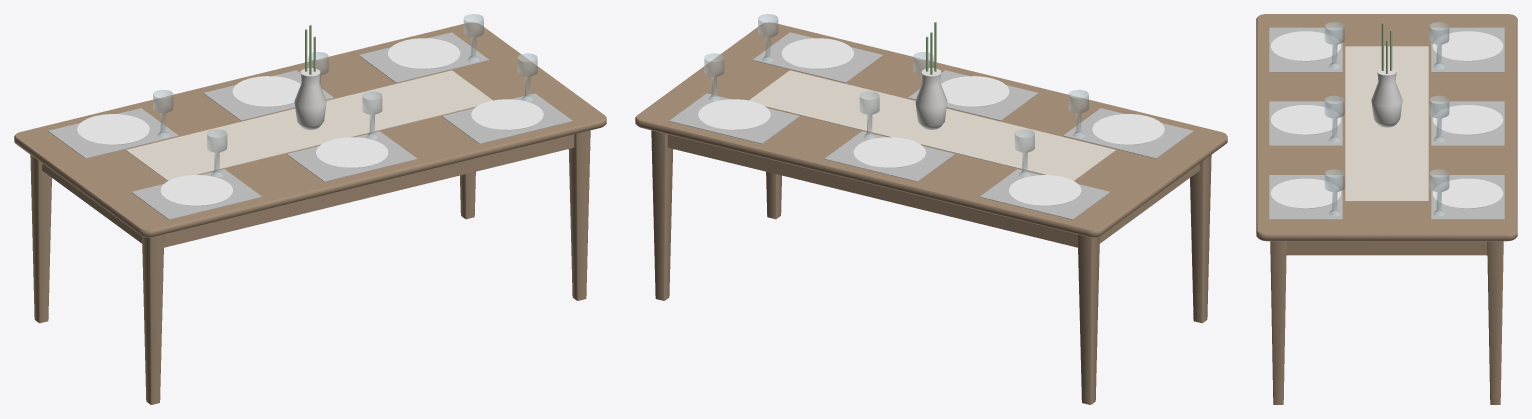
The picture shows the model from 3 angles, left to right: view 1: azimuth 30°, elevation 25°; view 2: azimuth 150°, elevation 25°; view 3: azimuth 270°, elevation 25°; orthographic projection. The views are drawn at different scales.
Parts seen in each view (by area): view 1: Bàn ăn Dài bàn=2000; Rộng bàn=1000; 8 ghế; view 2: Bàn ăn Dài bàn=2000; Rộng bàn=1000; 8 ghế; view 3: Bàn ăn Dài bàn=2000; Rộng bàn=1000; 8 ghế.
Boxes of the visible parts, <box> form: Bàn ăn Dài bàn=2000; Rộng bàn=1000; 8 ghế: <box>14,14,606,404</box>; Bàn ăn Dài bàn=2000; Rộng bàn=1000; 8 ghế: <box>635,14,1227,404</box>; Bàn ăn Dài bàn=2000; Rộng bàn=1000; 8 ghế: <box>1256,14,1517,404</box>.
Bounding box in the file's own units: 2 × 1.17 × 1.
